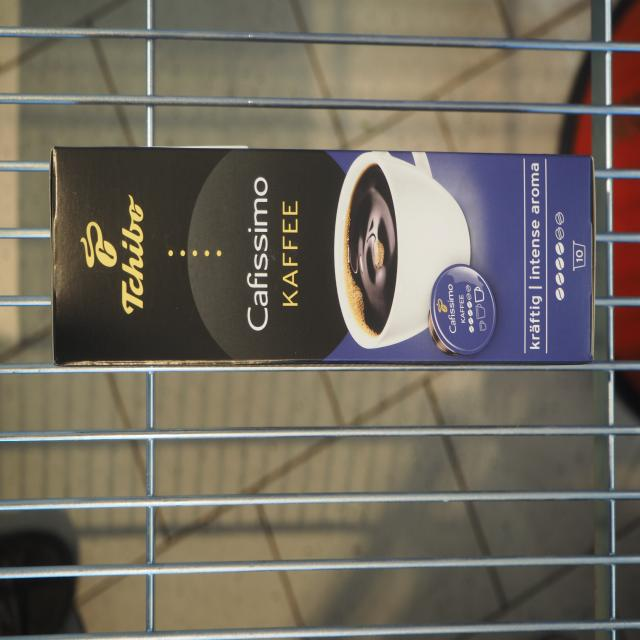Simo Kaffee Kraft: (47, 144, 599, 371)
